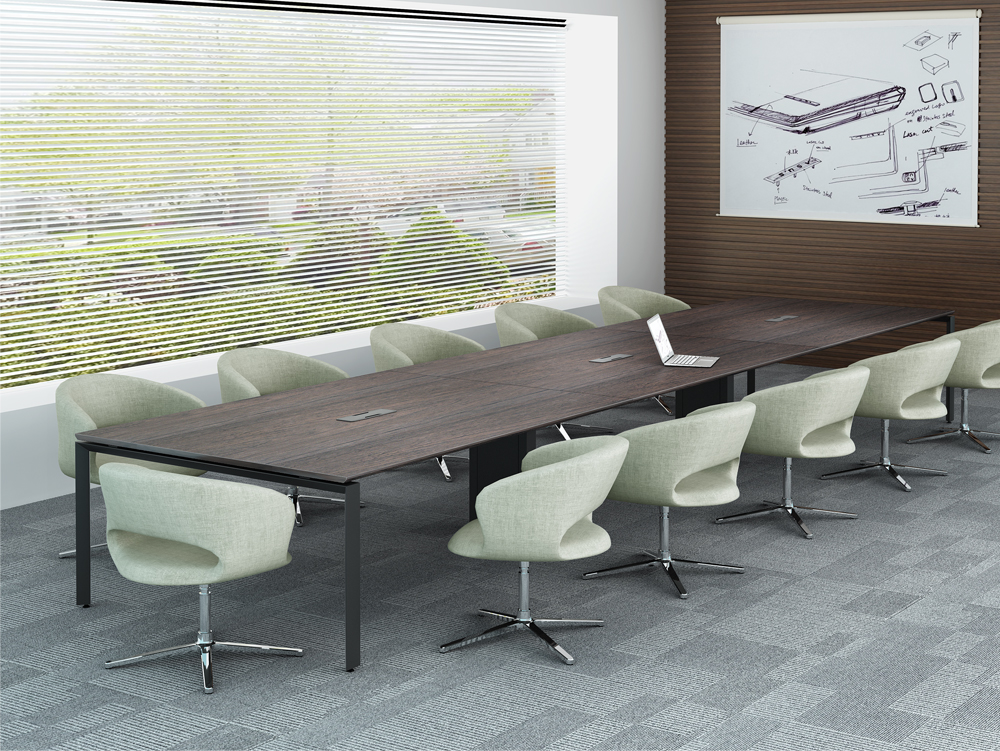conference_table: (75, 297, 954, 673)
